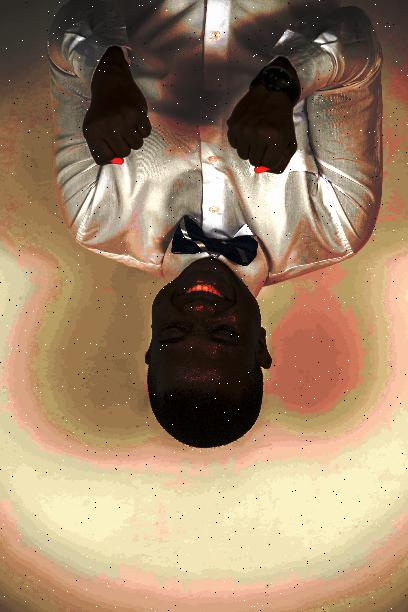Rock: (222, 86, 300, 180), (80, 79, 156, 173)
